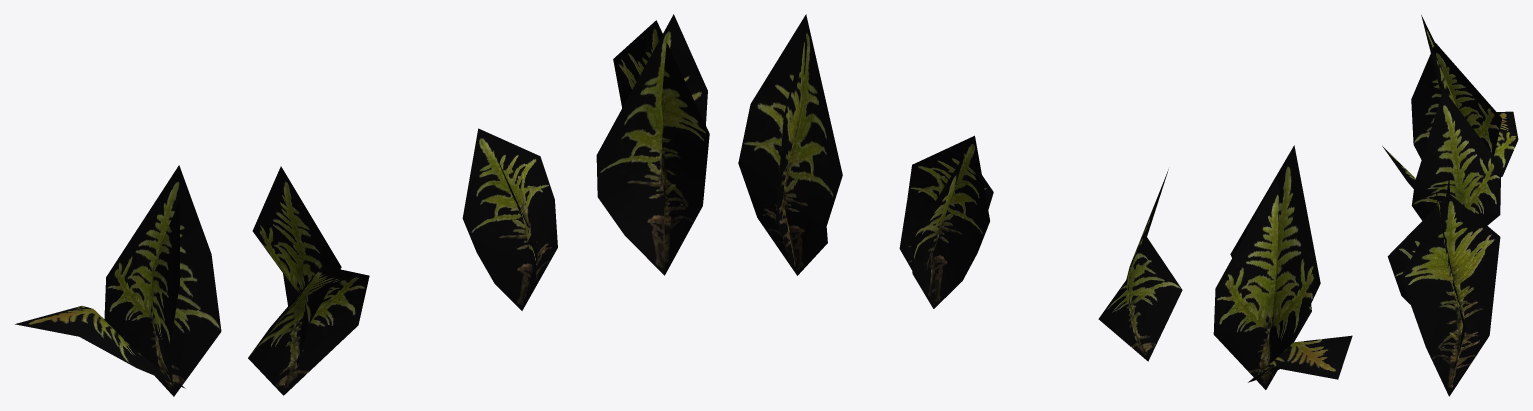
The model's file is moss.glb.
The picture shows the model from 3 angles, left to right: view 1: azimuth 30°, elevation 25°; view 2: azimuth 150°, elevation 25°; view 3: azimuth 270°, elevation 25°; orthographic projection. The views are drawn at different scales.
Visible parts, largest first — view 1: moss_01_f_LOD0, moss_01_c_LOD0, moss_01_d_LOD0, moss_01_e_LOD0; view 2: moss_01_c_LOD0, moss_01_f_LOD0, moss_01_e_LOD0, moss_01_d_LOD0; view 3: moss_01_f_LOD0, moss_01_d_LOD0, moss_01_c_LOD0, moss_01_e_LOD0.
Boxes of the visible parts, box(x1,y1,x2,y2) form: moss_01_f_LOD0: box(596, 14, 709, 275); moss_01_c_LOD0: box(15, 165, 221, 396); moss_01_d_LOD0: box(248, 166, 369, 395); moss_01_e_LOD0: box(462, 128, 557, 310); moss_01_c_LOD0: box(1213, 145, 1352, 389); moss_01_f_LOD0: box(738, 14, 842, 275); moss_01_e_LOD0: box(899, 135, 993, 308); moss_01_d_LOD0: box(1098, 169, 1182, 361); moss_01_f_LOD0: box(1401, 190, 1500, 396); moss_01_d_LOD0: box(1382, 89, 1501, 225); moss_01_c_LOD0: box(1411, 15, 1518, 176); moss_01_e_LOD0: box(1387, 177, 1449, 304).
Bounding box in the file's own units: 0.0773 × 0.0336 × 0.0179.
Materials: 1 (1 with a texture image).
